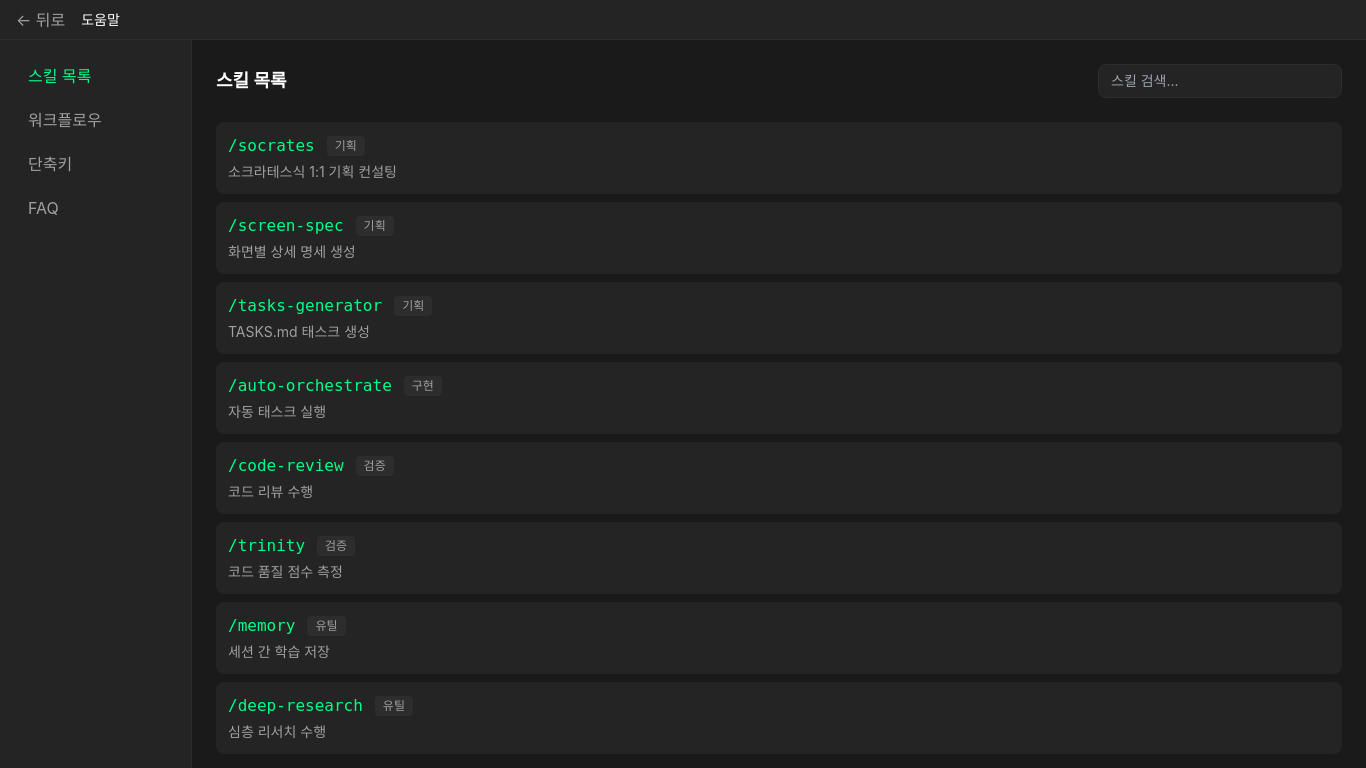
Test: HelpPage › 2. 탭 전환 › should switch to FAQ tab when clicked
Click the button "FAQ". click: (96, 208)
box: [16, 188, 175, 228]
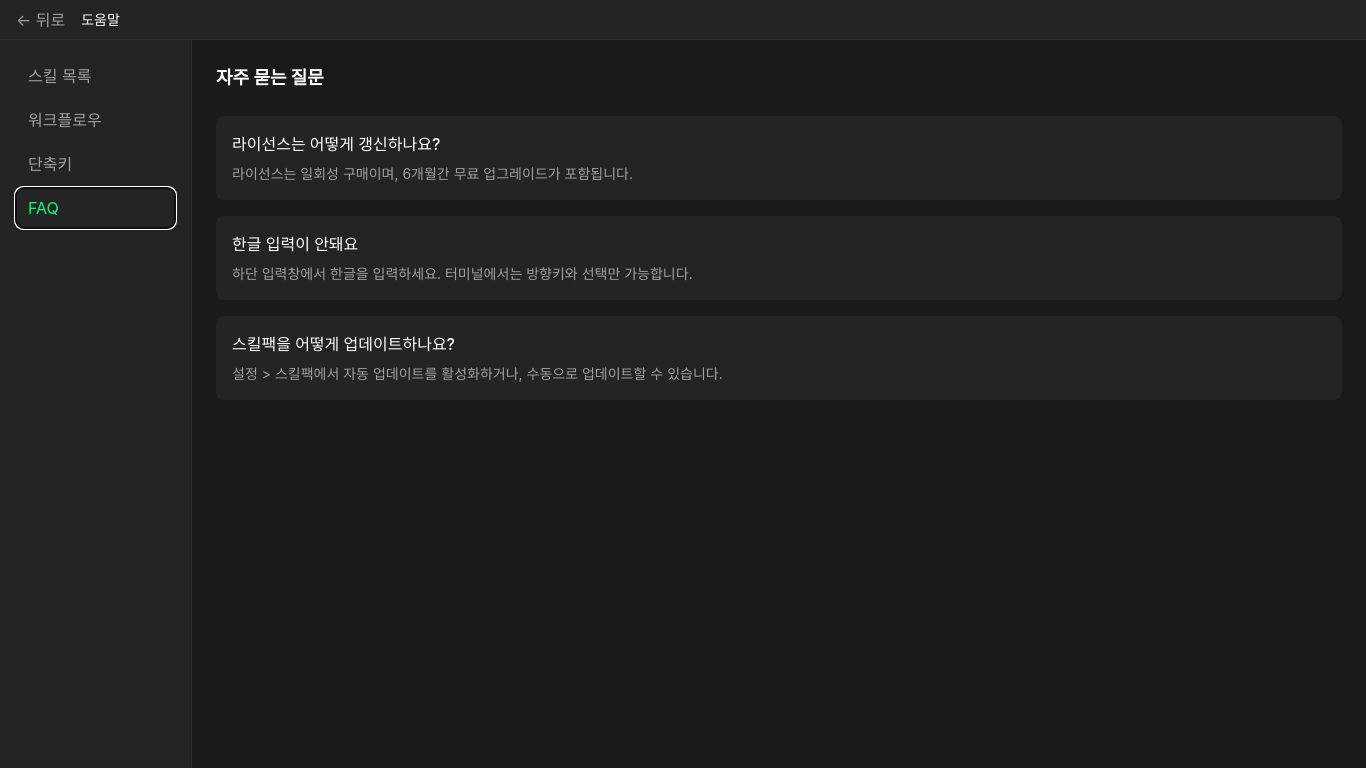
Now the heading "자주 묻는 질문" is shown, box [216, 67, 324, 88]
